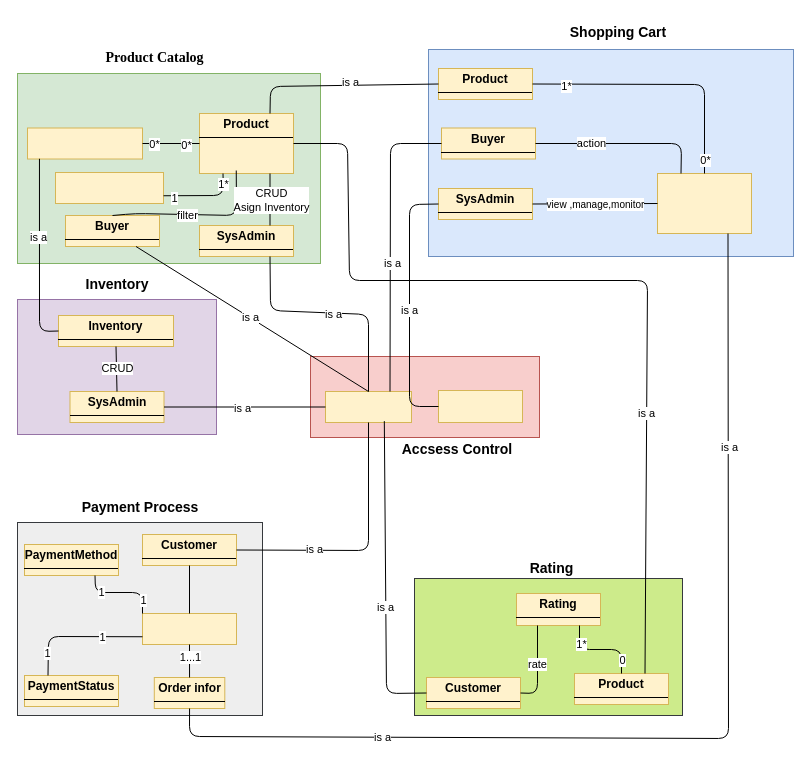
This 811x761 diagram has some shape labels left out. The shapes that lost their labels are listed below. From the top down, each one's centre as x and y in pixels, then its label:
point 84,143: Inventory info
point 109,188: Product Category
point 704,203: Cart
point 368,406: User
point 480,406: Role
point 189,628: Payment
